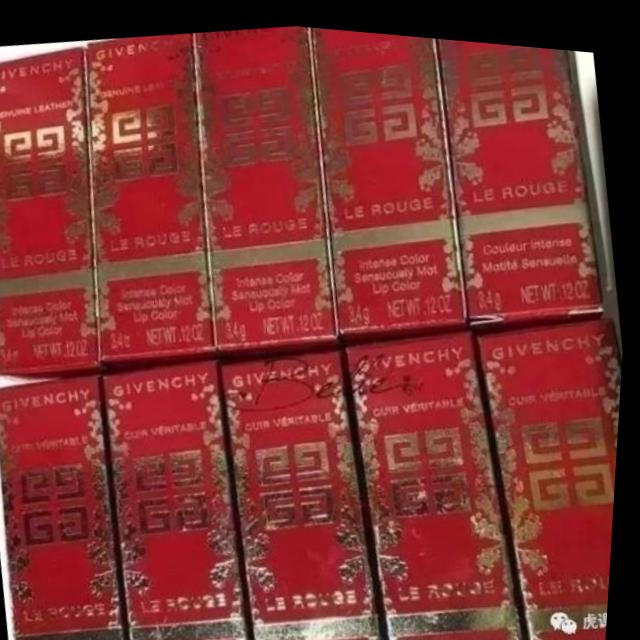box: (346, 322, 533, 640), (310, 22, 471, 341), (195, 21, 345, 357), (223, 344, 391, 640), (476, 305, 624, 640), (436, 31, 605, 323), (87, 32, 222, 373), (105, 358, 255, 640), (0, 45, 111, 386), (0, 374, 138, 640)
